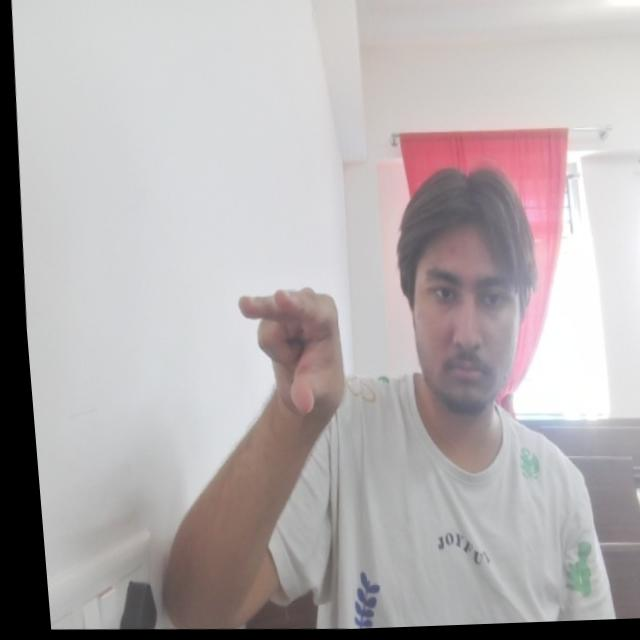no: (218, 270, 355, 428)
